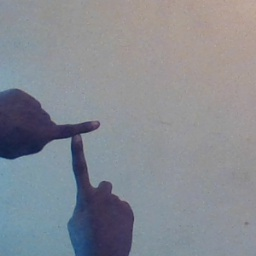T: (19, 92, 122, 200)
